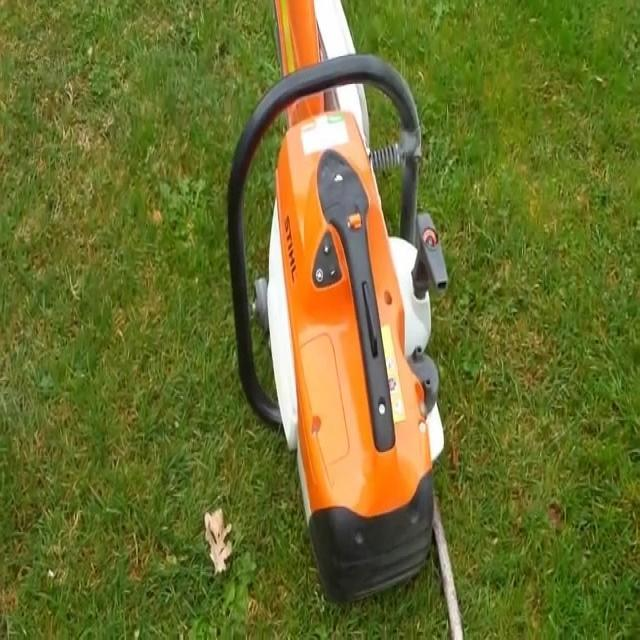Chainsaw: (214, 0, 509, 604)
